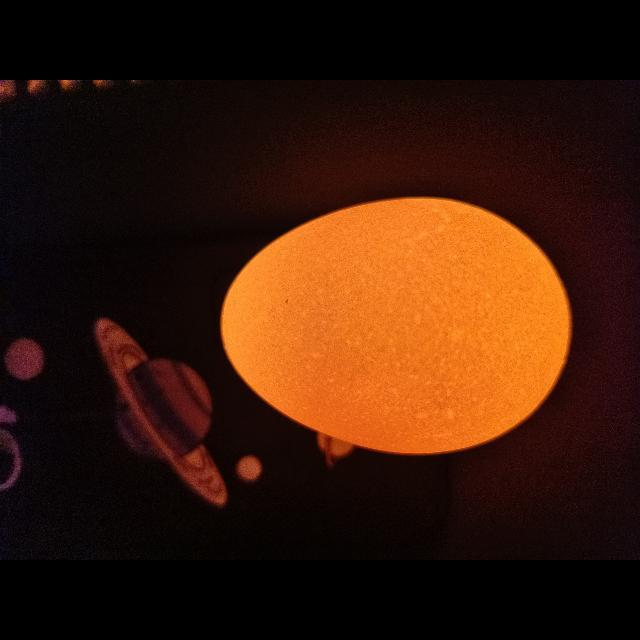AA - Premium: (221, 198, 571, 455)
